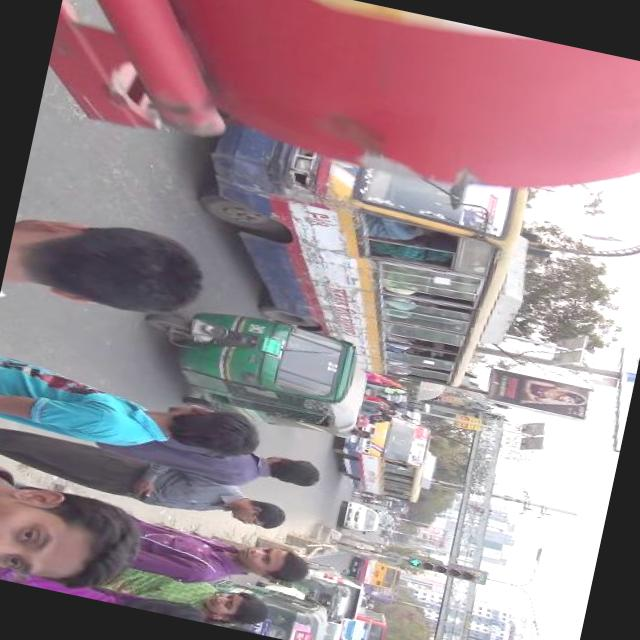bus: (183, 130, 554, 370), (321, 406, 446, 510), (342, 554, 404, 592), (339, 603, 396, 640)
car: (332, 497, 384, 538)
motorcycle: (122, 289, 378, 447), (208, 577, 331, 640), (282, 576, 350, 623), (380, 530, 393, 538)
